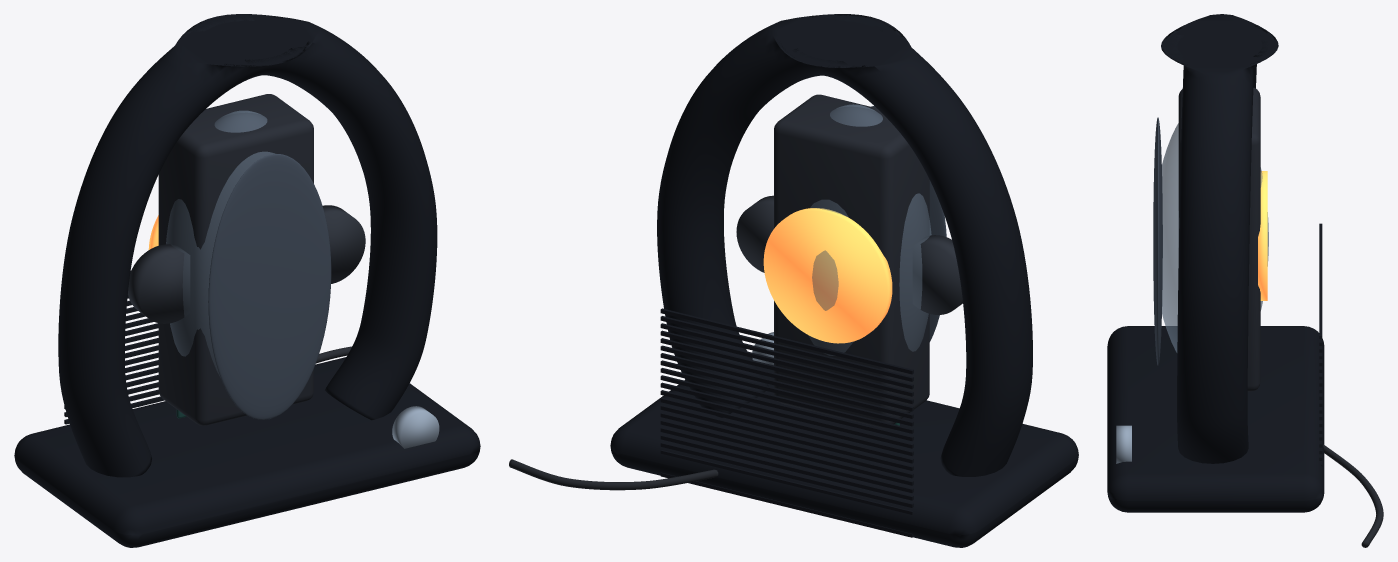
The model's file is nocturne-one-hero.glb.
3 views of the same model, side by side, from view 1: azimuth 30°, elevation 25°; view 2: azimuth 150°, elevation 25°; view 3: azimuth 270°, elevation 25° (orthographic). The views are drawn at different scales.
Visible parts, largest first — view 1: outer_shell, base, acoustic_membrane, internal_frame, glass_core, left_driver, thermal_grille, right_driver, rotary_control; view 2: outer_shell, thermal_grille, base, internal_frame, eclipse_disk, glass_core, left_driver, right_driver, braided_cable, acoustic_membrane; view 3: outer_shell, base, internal_frame, glass_core, acoustic_membrane, eclipse_disk, braided_cable, thermal_grille, rotary_control.
Part boxes in pixels (left/top/right/bottom): outer_shell: left=58, top=14, right=437, bottom=477; base: left=14, top=357, right=480, bottom=547; acoustic_membrane: left=208, top=153, right=331, bottom=419; internal_frame: left=158, top=94, right=313, bottom=425; glass_core: left=166, top=110, right=274, bottom=377; left_driver: left=128, top=244, right=190, bottom=323; thermal_grille: left=64, top=271, right=316, bottom=424; right_driver: left=322, top=205, right=365, bottom=283; rotary_control: left=392, top=406, right=439, bottom=448; outer_shell: left=657, top=14, right=1032, bottom=476; thermal_grille: left=660, top=308, right=913, bottom=537; base: left=610, top=357, right=1078, bottom=547; internal_frame: left=774, top=94, right=929, bottom=428; eclipse_disk: left=763, top=208, right=892, bottom=343; glass_core: left=808, top=104, right=931, bottom=355; left_driver: left=912, top=235, right=962, bottom=314; right_driver: left=736, top=195, right=773, bottom=272; braided_cable: left=509, top=459, right=718, bottom=490; acoustic_membrane: left=871, top=106, right=946, bottom=341; outer_shell: left=1161, top=14, right=1278, bottom=463; base: left=1107, top=326, right=1324, bottom=512; internal_frame: left=1178, top=87, right=1260, bottom=391; glass_core: left=1162, top=123, right=1268, bottom=352; acoustic_membrane: left=1153, top=117, right=1162, bottom=365; eclipse_disk: left=1258, top=171, right=1267, bottom=300; braided_cable: left=1323, top=444, right=1383, bottom=547; thermal_grille: left=1319, top=223, right=1322, bottom=466; rotary_control: left=1116, top=425, right=1131, bottom=463.
Bounding box in the file's own units: 380 × 360 × 229.
